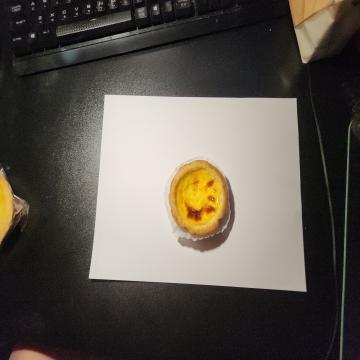EggTart: (169, 159, 228, 237)
